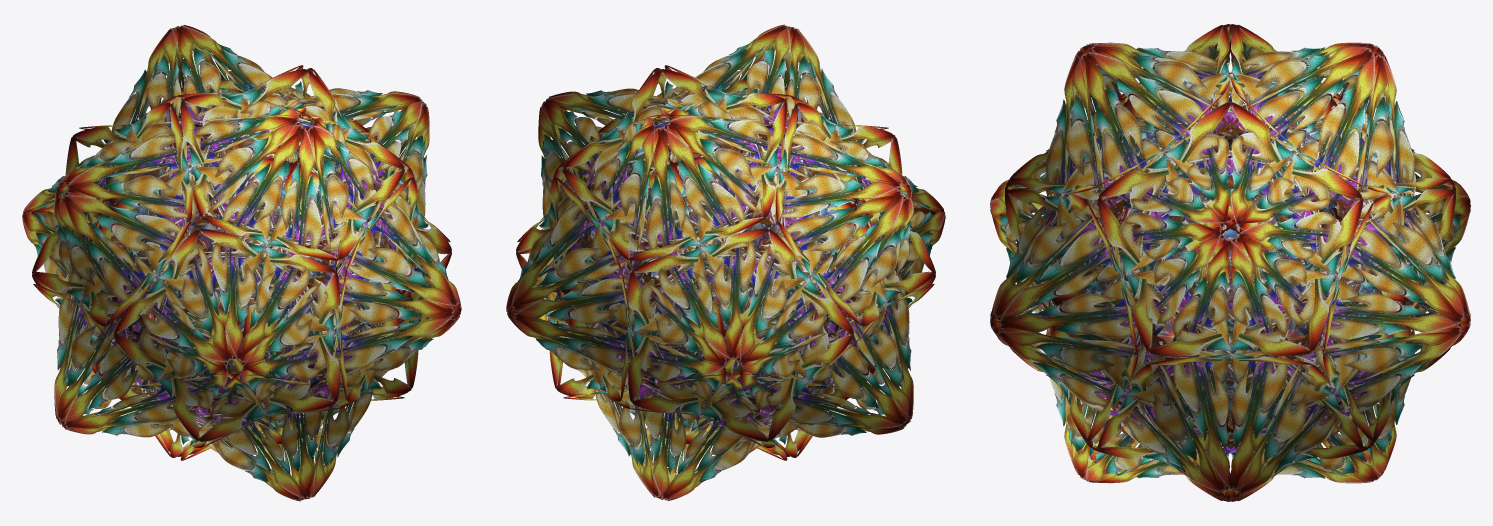
The model's file is GreatDodecacronicHexecontahedron12.gltf.
The picture shows the model from 3 angles, left to right: view 1: azimuth 30°, elevation 25°; view 2: azimuth 150°, elevation 25°; view 3: azimuth 270°, elevation 25°; orthographic projection. The views are drawn at different scales.
Parts seen in each view (by area): view 1: GreatDodecacronicHexecontahedron12; view 2: GreatDodecacronicHexecontahedron12; view 3: GreatDodecacronicHexecontahedron12.
Boxes of the visible parts, x1,y1,x2,y2 form: GreatDodecacronicHexecontahedron12: [22, 25, 461, 501]; GreatDodecacronicHexecontahedron12: [506, 24, 945, 500]; GreatDodecacronicHexecontahedron12: [990, 24, 1470, 501].
Size of the model in its own units: 1.24 by 1.24 by 1.24.
1 material, 1 textured.
